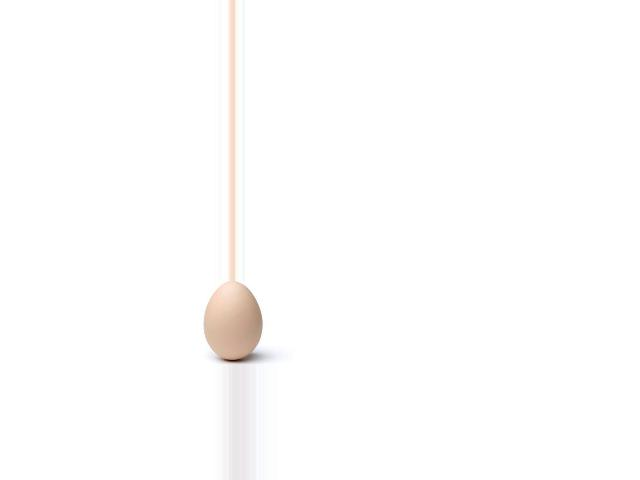egg: (203, 281, 262, 361)
